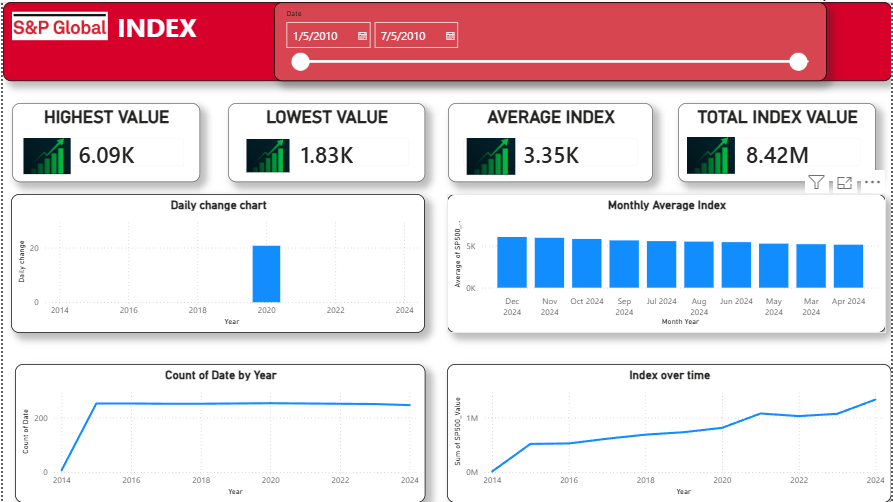

What the dashboard file says about the page in this screenshot:
{"tool":"powerbi","page":{"name":"Index","canvas":[1280,720],"ordinal":1},"visuals":[{"type":"textbox","box":[0,0,1280.2,113.8],"z":0},{"type":"image","box":[13,0,138.2,69.1],"z":1000},{"type":"cardVisual","title":"HIGHEST  VALUE ","fields":{"Data":["Max(Index.S&P500)"]},"box":[13,145.4,270.7,113.8],"z":2000},{"type":"cardVisual","title":"LOWEST VALUE","fields":{"Data":["Min(Index.S&P500)"]},"box":[324,145.4,283.7,113.8],"z":3000},{"type":"cardVisual","title":"AVERAGE INDEX","fields":{"Data":["Avg(Index.S&P500)"]},"box":[640.8,145.4,295.2,113.8],"z":4000},{"type":"cardVisual","title":"TOTAL INDEX VALUE","fields":{"Data":["Sum(Index.S&P500)"]},"box":[972,145.4,285.1,113.8],"z":5000},{"type":"image","box":[24.5,195.8,77.8,51.8],"z":6000},{"type":"image","box":[985,194.4,69.1,53.3],"z":7000},{"type":"image","box":[345.6,197.3,72,47.5],"z":8000},{"type":"image","box":[666.7,195.8,72,53.3],"z":9000},{"type":"lineChart","title":"Index over time","fields":{"Y":["Sum(Index.S&P500)"],"Category":["Index.Date.Variation.Date Hierarchy.Year","Index.Date.Variation.Date Hierarchy.Quarter","Index.Date.Variation.Date Hierarchy.Month","Index.Date.Variation.Date Hierarchy.Day"]},"box":[640,520.7,640,199.9],"z":10000},{"type":"lineChart","fields":{"Category":["Index.Date.Variation.Date Hierarchy.Year","Index.Date.Variation.Date Hierarchy.Quarter","Index.Date.Variation.Date Hierarchy.Month","Index.Date.Variation.Date Hierarchy.Day"],"Y":["CountNonNull(Index.Date)"]},"box":[16.8,520.7,591.3,199.9],"z":11000},{"type":"columnChart","title":"Monthly Average Index","fields":{"Category":["Index.Month Year"],"Y":["Avg(Index.SP500_Value)"]},"box":[640,277.2,631.6,199.9],"z":12000},{"type":"clusteredColumnChart","title":"Daily change chart","fields":{"Category":["Index.Date.Variation.Date Hierarchy.Year","Index.Date.Variation.Date Hierarchy.Quarter","Index.Date.Variation.Date Hierarchy.Month","Index.Date.Variation.Date Hierarchy.Day"],"Y":["Index.Daily change"]},"box":[11.8,277.2,596.3,199.9],"z":12001},{"type":"slicer","fields":{"Values":["Stock.Date"]},"box":[389.7,0,796.2,114.2],"z":12002}]}

Visuals, with their boxes in screenshot pixels (x1, y1, x2, y2), scaled from the page's 1280x720 canvas onto the 893x502 screenshot:
textbox: left=0, top=0, right=892, bottom=79
image: left=9, top=0, right=105, bottom=48
"HIGHEST  VALUE " cardVisual: left=9, top=101, right=198, bottom=181
"LOWEST VALUE" cardVisual: left=226, top=101, right=424, bottom=181
"AVERAGE INDEX" cardVisual: left=447, top=101, right=653, bottom=181
"TOTAL INDEX VALUE" cardVisual: left=678, top=101, right=877, bottom=181
image: left=17, top=137, right=71, bottom=173
image: left=687, top=136, right=735, bottom=173
image: left=241, top=138, right=291, bottom=171
image: left=465, top=137, right=515, bottom=174
"Index over time" lineChart: left=446, top=363, right=892, bottom=501
lineChart - Index.Date.Variation.Date Hierarchy.Year x Index.Date.Variation.Date Hierarchy.Quarter: left=12, top=363, right=424, bottom=501
"Monthly Average Index" columnChart: left=446, top=193, right=887, bottom=333
"Daily change chart" clusteredColumnChart: left=8, top=193, right=424, bottom=333
slicer - Stock.Date: left=272, top=0, right=827, bottom=80
